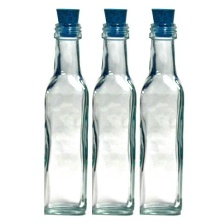bottle: (137, 22, 187, 219), (41, 19, 91, 215), (91, 19, 137, 219)
